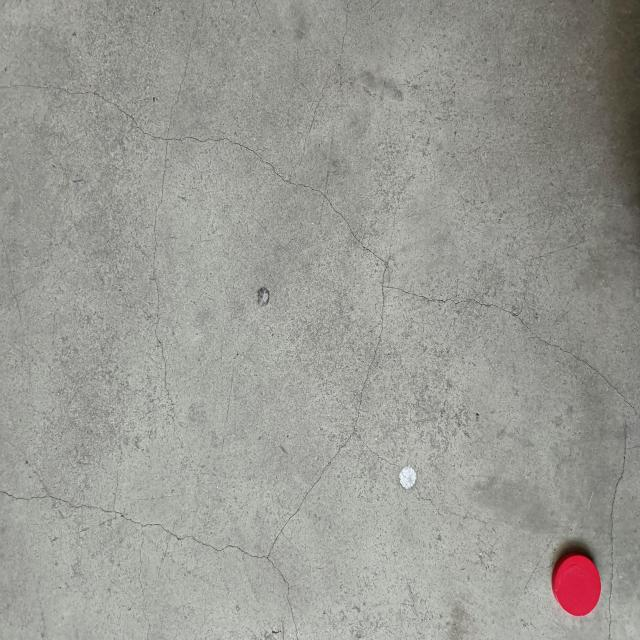chip: (553, 549, 603, 619)
